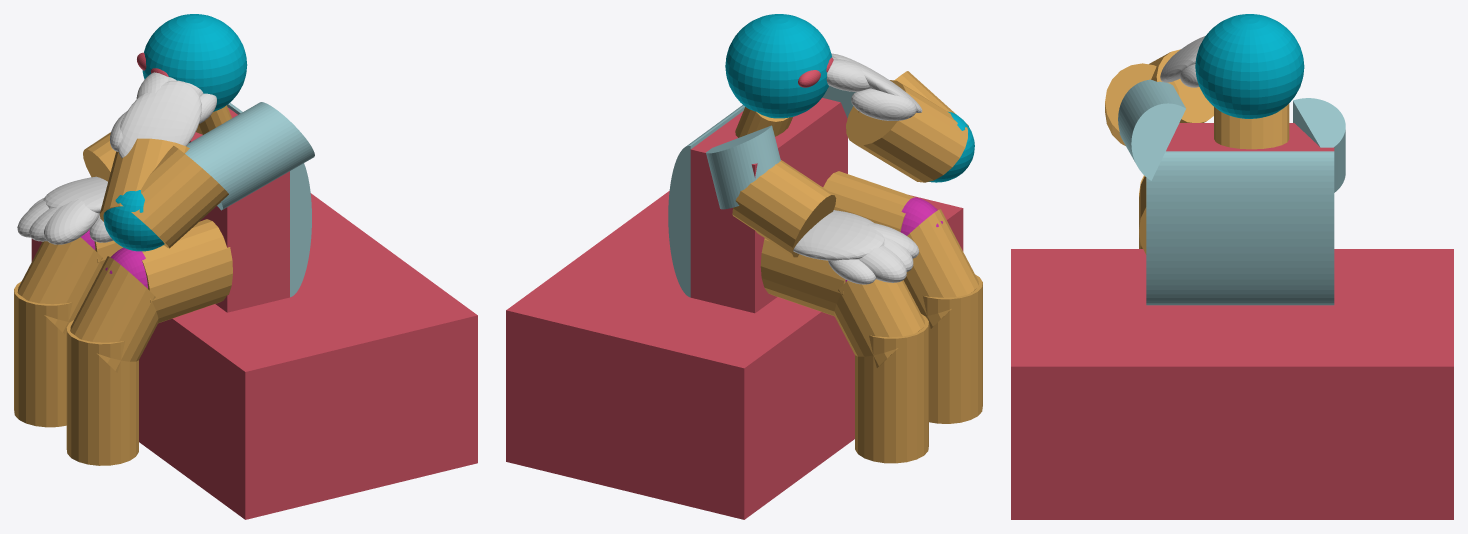
File: Stunning Bruticus-Sango.glb
The picture shows the model from 3 angles, left to right: view 1: azimuth 30°, elevation 25°; view 2: azimuth 150°, elevation 25°; view 3: azimuth 270°, elevation 25°; orthographic projection. The views are drawn at different scales.
Parts seen in each view (by area): view 1: Mesh_Mesh_head_geo.001_lambert2SG.001; view 2: Mesh_Mesh_head_geo.001_lambert2SG.001; view 3: Mesh_Mesh_head_geo.001_lambert2SG.001.
Part boxes in pixels (x1,y1,x2,y2): Mesh_Mesh_head_geo.001_lambert2SG.001: (14,14,477,519); Mesh_Mesh_head_geo.001_lambert2SG.001: (506,14,982,519); Mesh_Mesh_head_geo.001_lambert2SG.001: (1011,14,1453,519).
Bounding box in the file's own units: 104 × 122 × 118.
